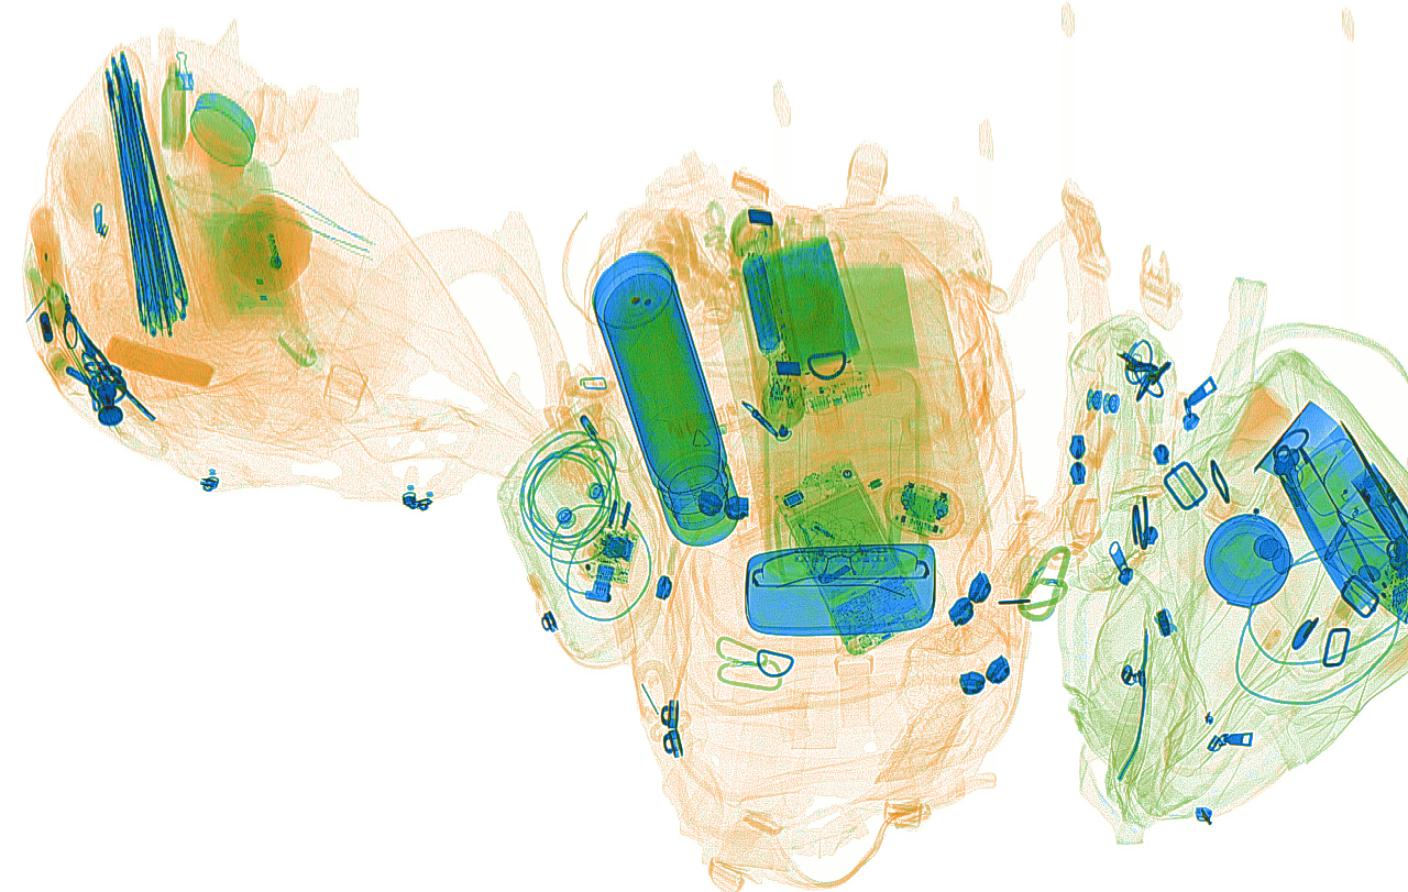battery: (740, 250, 781, 352)
